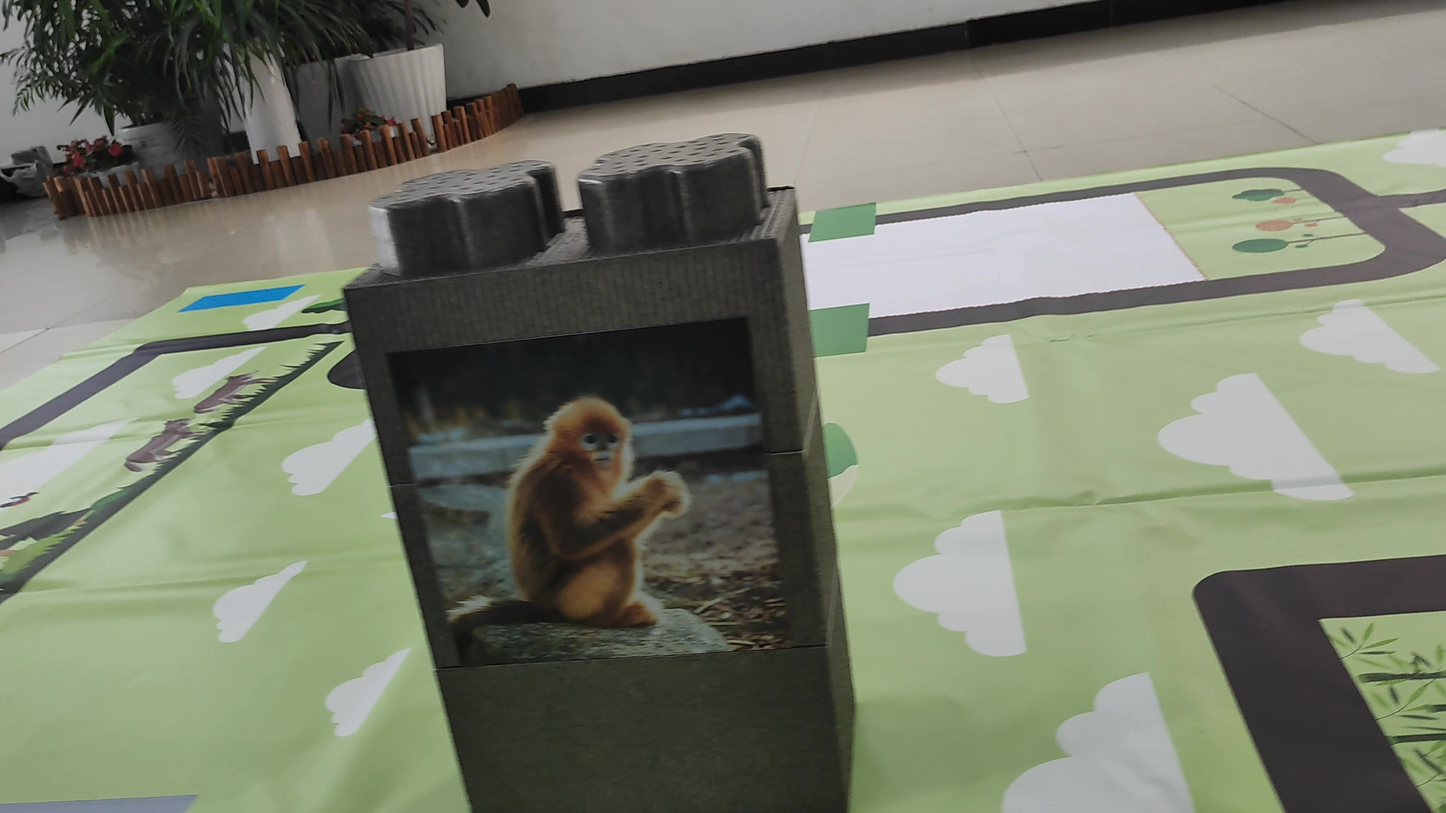monkey: (472, 357, 723, 641)
